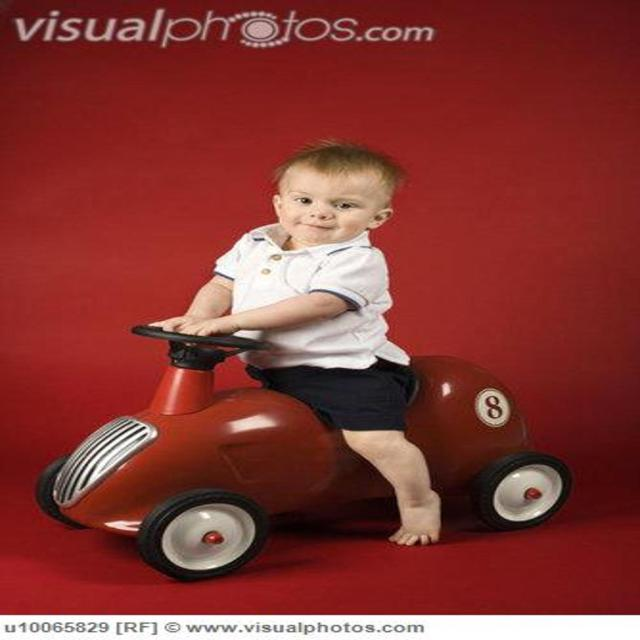Face: (273, 163, 406, 247)
